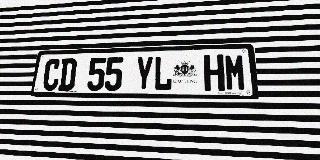5: (104, 57, 124, 91), (87, 57, 106, 91)
C: (42, 59, 61, 91)
D: (58, 58, 77, 91)
H: (204, 54, 225, 91)
L: (153, 56, 172, 91)
M: (224, 54, 247, 91)
Y: (134, 56, 154, 91)
